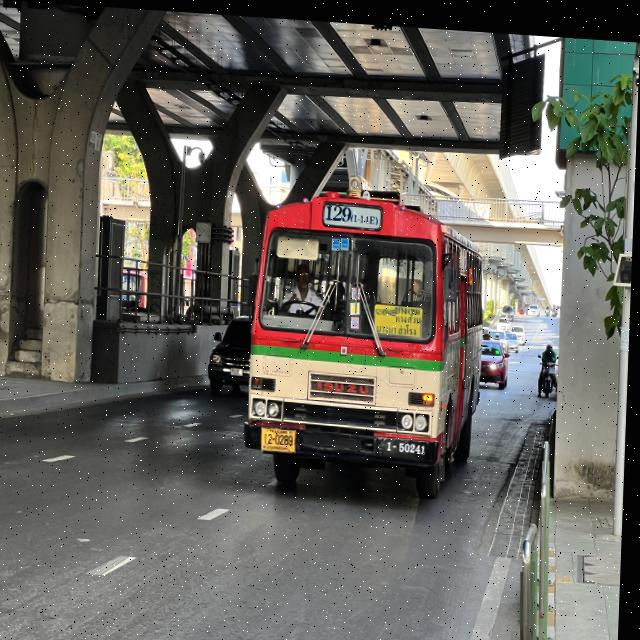BMTA-bus: (245, 184, 488, 499)
Bus-Line-Number: (322, 192, 387, 231)
Destination-Sign-Normal-Expressway: (376, 297, 425, 334)
